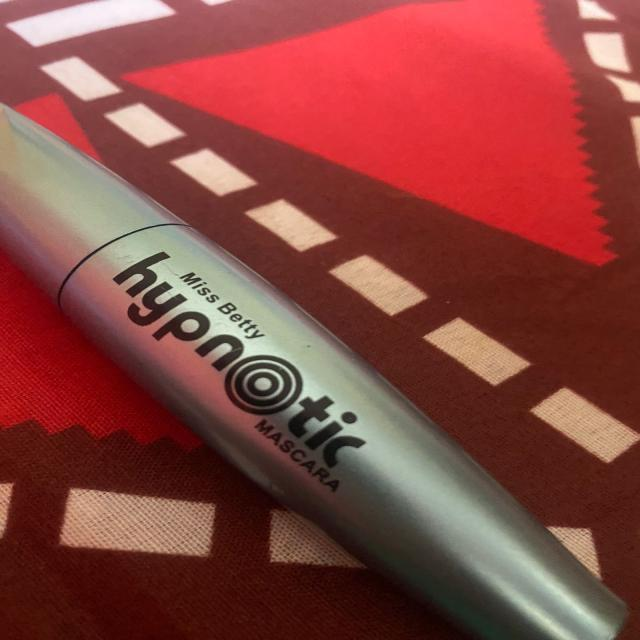mascara: (1, 80, 640, 640)
